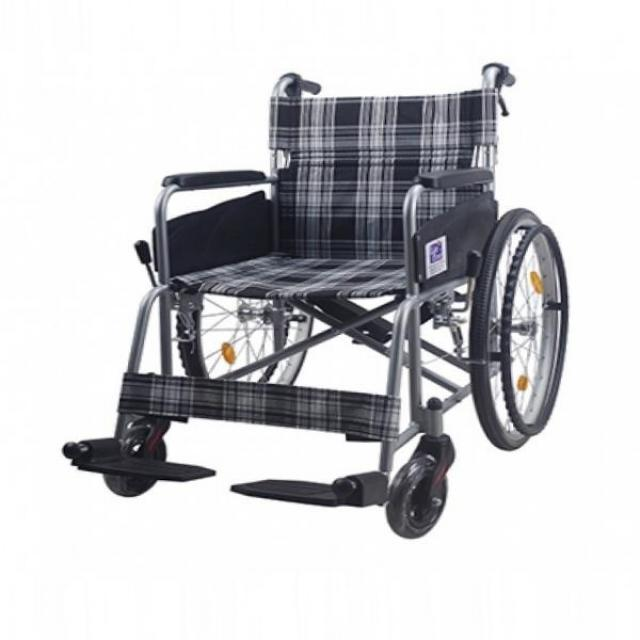wheelchair: (54, 52, 595, 551)
